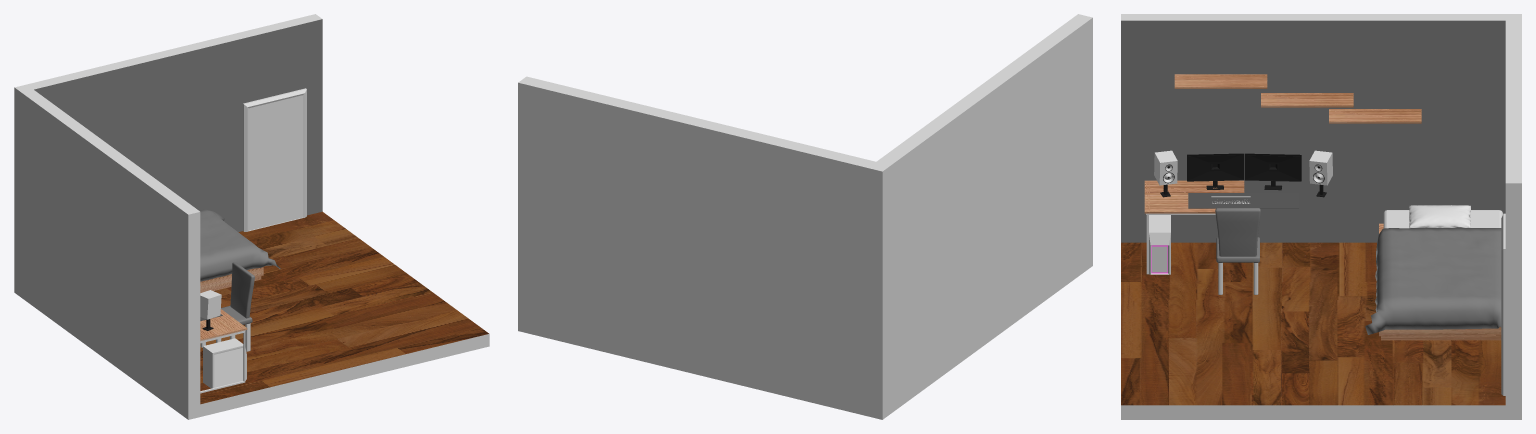
The model's file is isometric room.glb.
3 renders of one model, left to right at view 1: azimuth 30°, elevation 25°; view 2: azimuth 150°, elevation 25°; view 3: azimuth 270°, elevation 25°, orthographic. The views are drawn at different scales.
Parts seen in each view (by area): view 1: Cube, Cube.005, Plane.001, Cube.006, Plane, Cube.004, Cube.011, Cube.001; view 2: Cube; view 3: Cube, Plane.001, Plane, Cube.004, Cube.007, Cube.008, Cube.009, Cube.001, Cube.003, Cube.015, Cube.013, Cube.014 (+5 smaller).
Part boxes in pixels (bbox=[...]): Cube: bbox=[14, 14, 489, 419]; Cube.005: bbox=[243, 88, 306, 231]; Plane.001: bbox=[199, 209, 280, 281]; Cube.006: bbox=[203, 338, 246, 388]; Plane: bbox=[200, 262, 254, 351]; Cube.004: bbox=[200, 309, 247, 393]; Cube.011: bbox=[200, 290, 221, 330]; Cube.001: bbox=[200, 267, 263, 292]; Cube: bbox=[518, 14, 1092, 419]; Cube: bbox=[1121, 14, 1521, 419]; Plane.001: bbox=[1365, 228, 1501, 334]; Plane: bbox=[1215, 208, 1260, 294]; Cube.004: bbox=[1144, 180, 1244, 274]; Cube.007: bbox=[1244, 153, 1301, 190]; Cube.008: bbox=[1188, 193, 1298, 208]; Cube.009: bbox=[1187, 153, 1243, 189]; Cube.001: bbox=[1379, 223, 1501, 340]; Cube.003: bbox=[1409, 205, 1470, 228]; Cube.015: bbox=[1174, 74, 1267, 88]; Cube.013: bbox=[1261, 93, 1353, 107]; Cube.014: bbox=[1329, 109, 1421, 123].
Size of the model in its own units: 8.66 by 5.64 by 8.66.
Materials: 14 (2 with a texture image).
